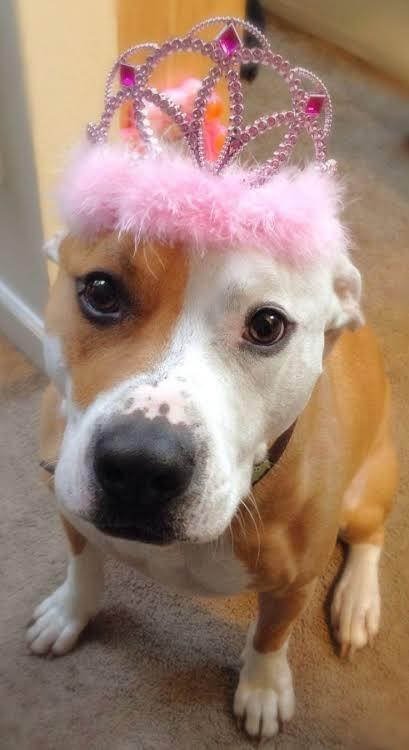adult_dog: (25, 210, 402, 744)
